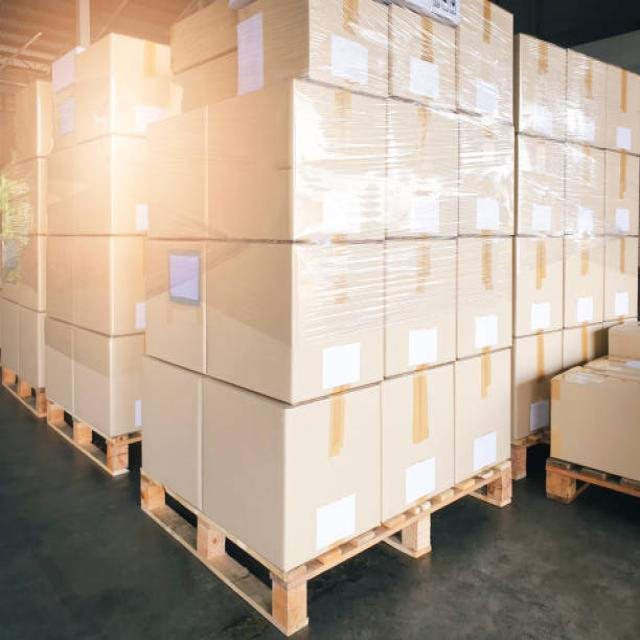Wooden-Pallets: (134, 451, 516, 640), (40, 392, 125, 493)
